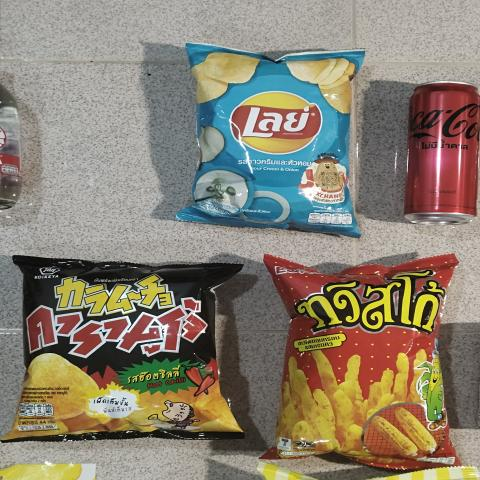coke_red: (399, 80, 480, 220)
karamujo: (22, 274, 221, 434)
lay_blue: (198, 53, 353, 216)
twisco: (295, 271, 446, 444)
